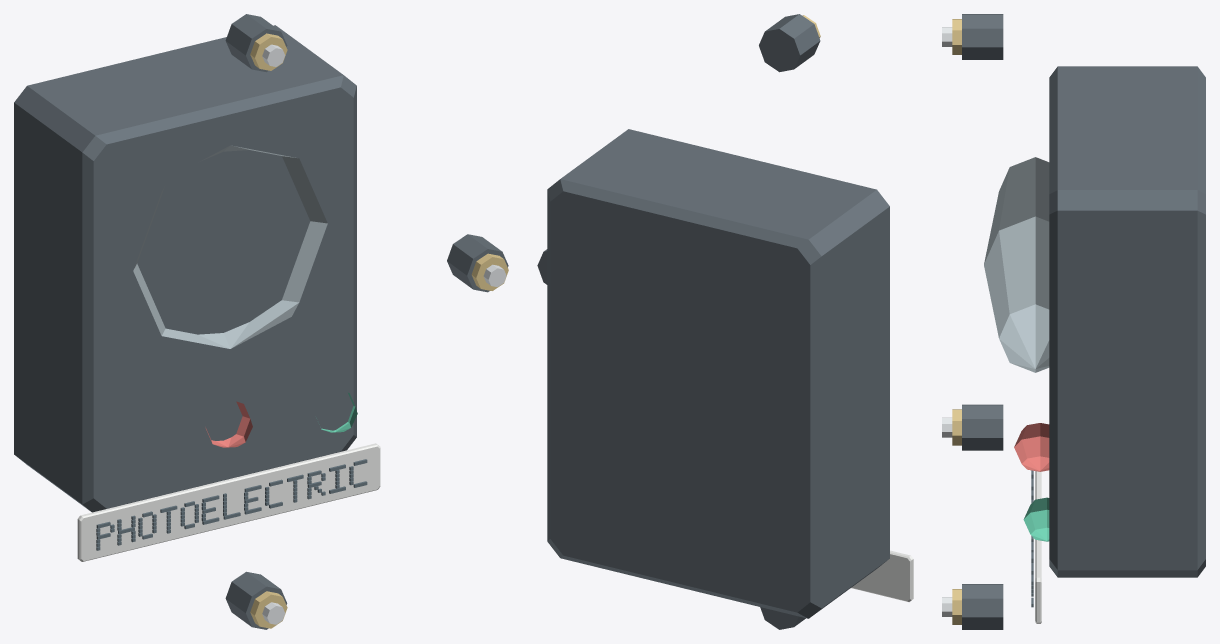
File: photoelectricSensor.glb
The picture shows the model from 3 angles, left to right: view 1: azimuth 30°, elevation 25°; view 2: azimuth 150°, elevation 25°; view 3: azimuth 270°, elevation 25°; orthographic projection. The views are drawn at different scales.
Visible parts, largest first — view 1: photoelectricSensor-board; view 2: photoelectricSensor-board; view 3: photoelectricSensor-board.
Boxes of the visible parts, x1,y1,x2,y2 form: photoelectricSensor-board: (14, 14, 508, 629); photoelectricSensor-board: (537, 14, 913, 629); photoelectricSensor-board: (942, 14, 1205, 629).
Bounding box in the file's own units: 1.81 × 2.65 × 1.03.
